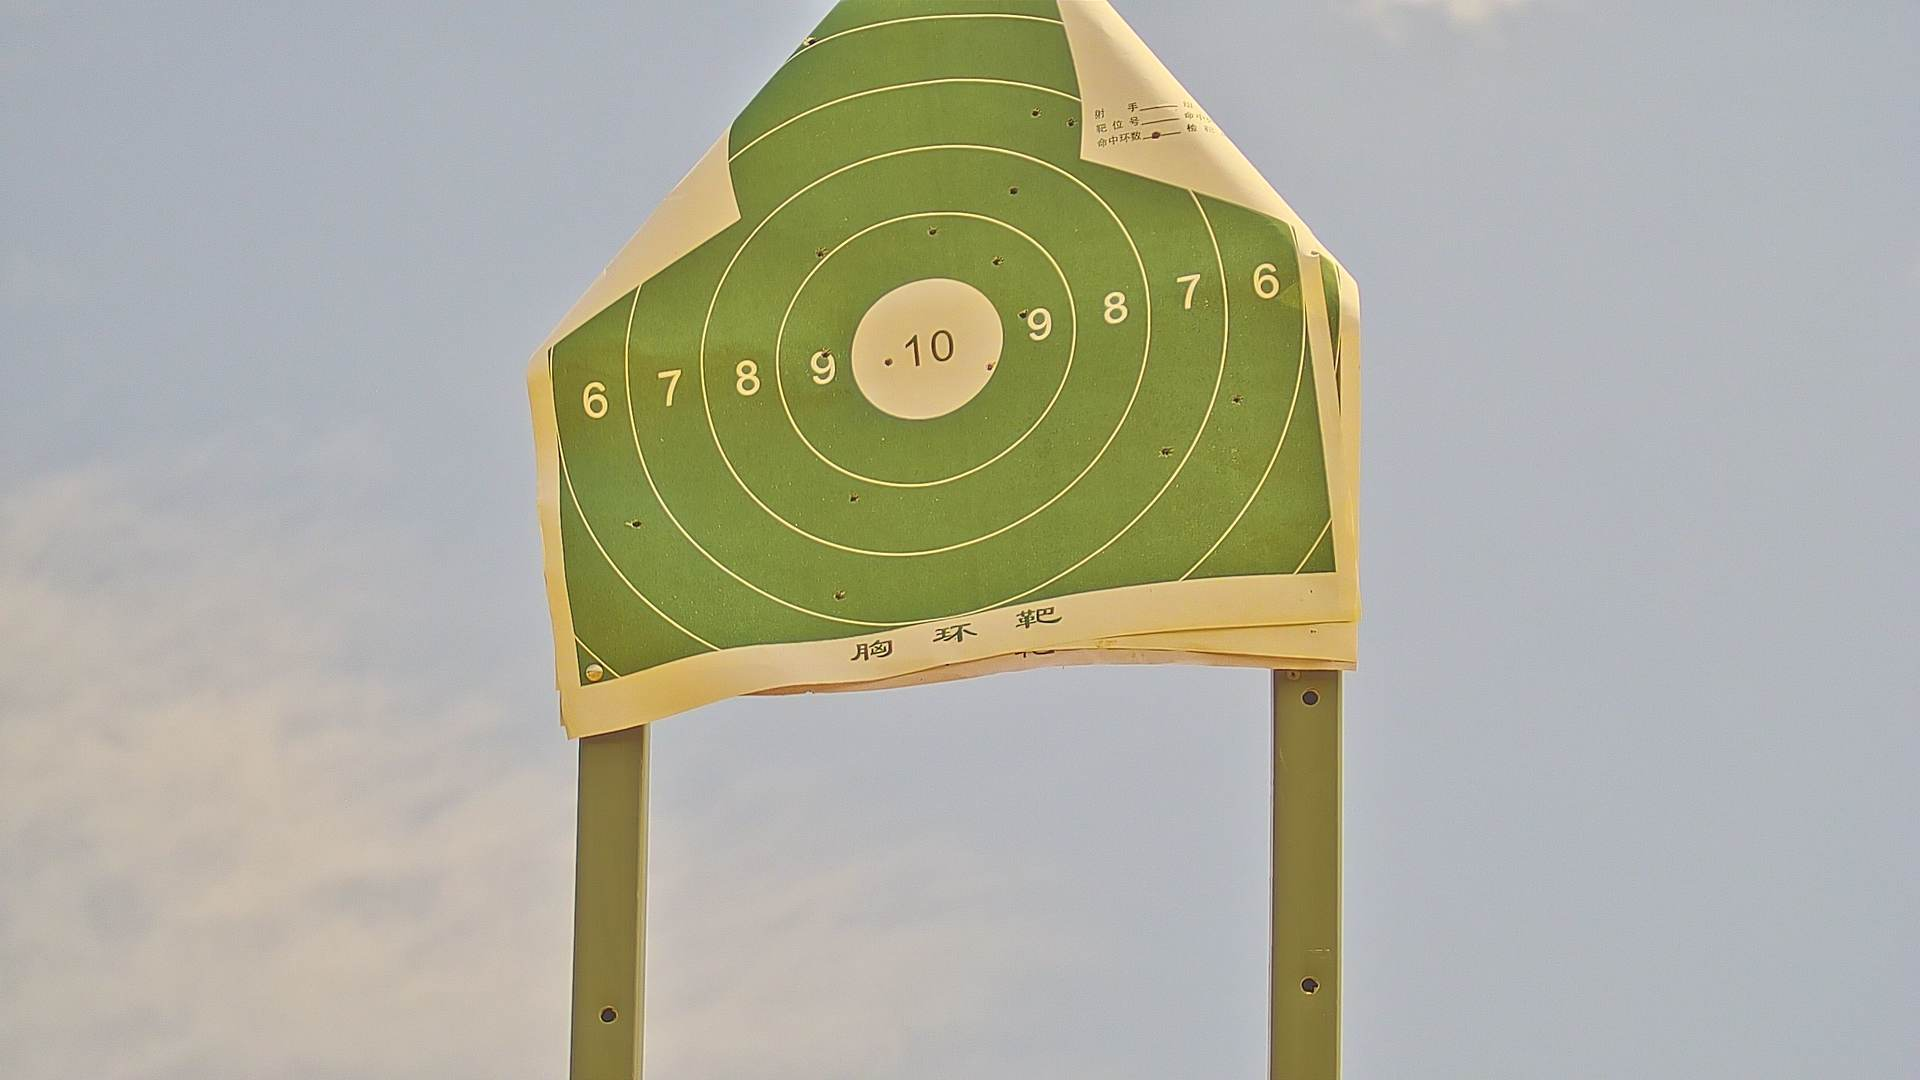hole: (1011, 306, 1034, 323), (1228, 392, 1246, 411), (831, 585, 849, 603), (624, 516, 647, 529), (1156, 443, 1174, 460), (803, 33, 822, 47), (988, 251, 1004, 266), (814, 245, 828, 262), (820, 345, 833, 363), (1027, 102, 1040, 117), (984, 356, 996, 373), (1007, 181, 1018, 199), (847, 488, 858, 504), (881, 355, 894, 368), (926, 223, 938, 236), (1065, 113, 1073, 129)
kernel: (924, 347, 932, 353)
target: (550, 11, 1340, 688)
ten: (851, 276, 1001, 422)
